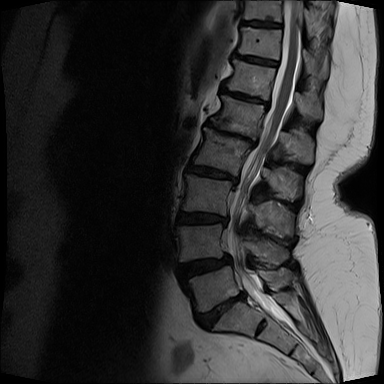Degenerative Disc Disease DDD: (214, 81, 275, 113), (203, 120, 261, 151), (234, 50, 283, 69), (237, 15, 285, 32)
Lumbar Disc Bulge LDB: (190, 288, 252, 335), (172, 246, 235, 285), (183, 162, 243, 189), (169, 206, 233, 230)
Spinal Stenosis SS: (242, 132, 264, 153), (216, 207, 235, 231), (227, 167, 245, 191), (233, 285, 252, 306), (220, 247, 236, 271), (259, 95, 277, 114)
Spondylolisthesis: (183, 284, 261, 343), (167, 238, 242, 286)
